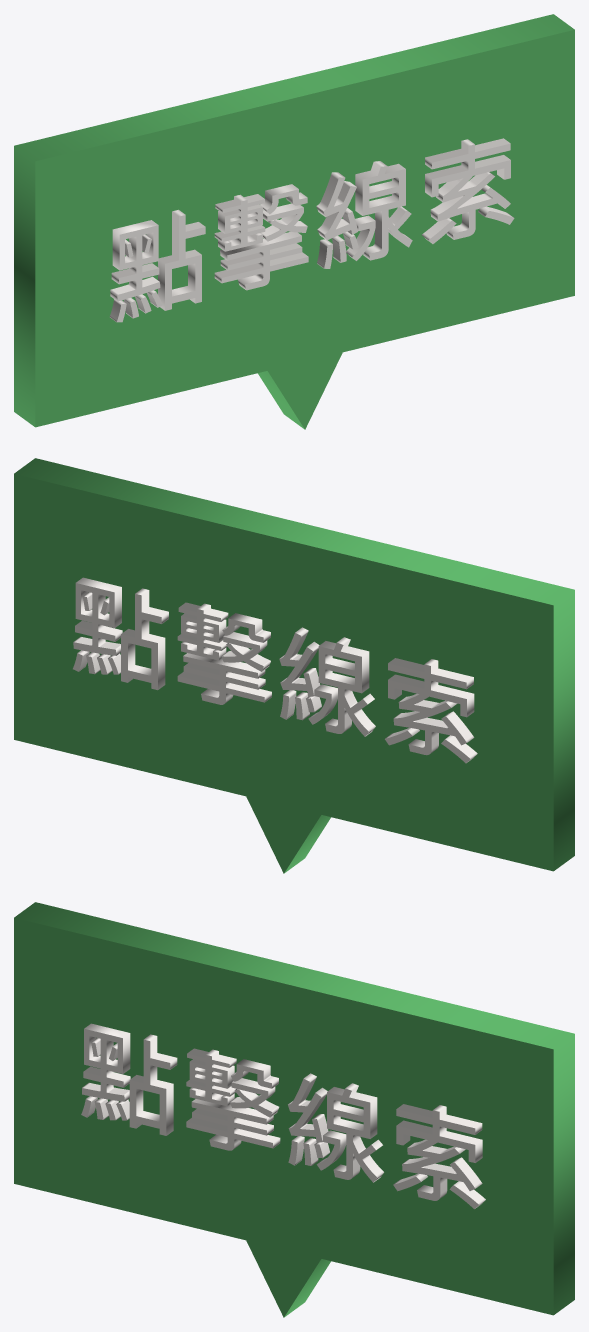
File: tip.glb
The picture shows the model from 3 angles, top to bottom: view 1: azimuth 30°, elevation 25°; view 2: azimuth 150°, elevation 25°; view 3: azimuth 330°, elevation 25°; orthographic projection.
Parts seen in each view (by area): view 1: 對話框01.001; view 2: 對話框01.001; view 3: 對話框01.001.
Part boxes in pixels (x1,y1,x2,y2): 對話框01.001: (14,14,574,429); 對話框01.001: (14,458,574,873); 對話框01.001: (14,902,574,1317).
Size of the model in its own units: 0.4611 by 0.273 by 0.053.
Materials: 1 (1 with a texture image).
